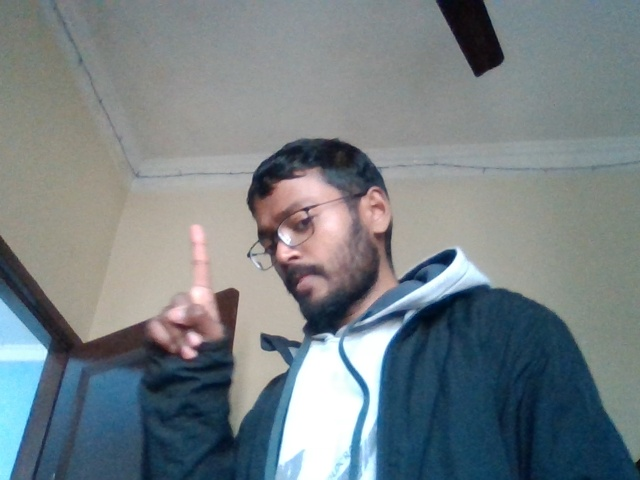where: (140, 227, 238, 352)
